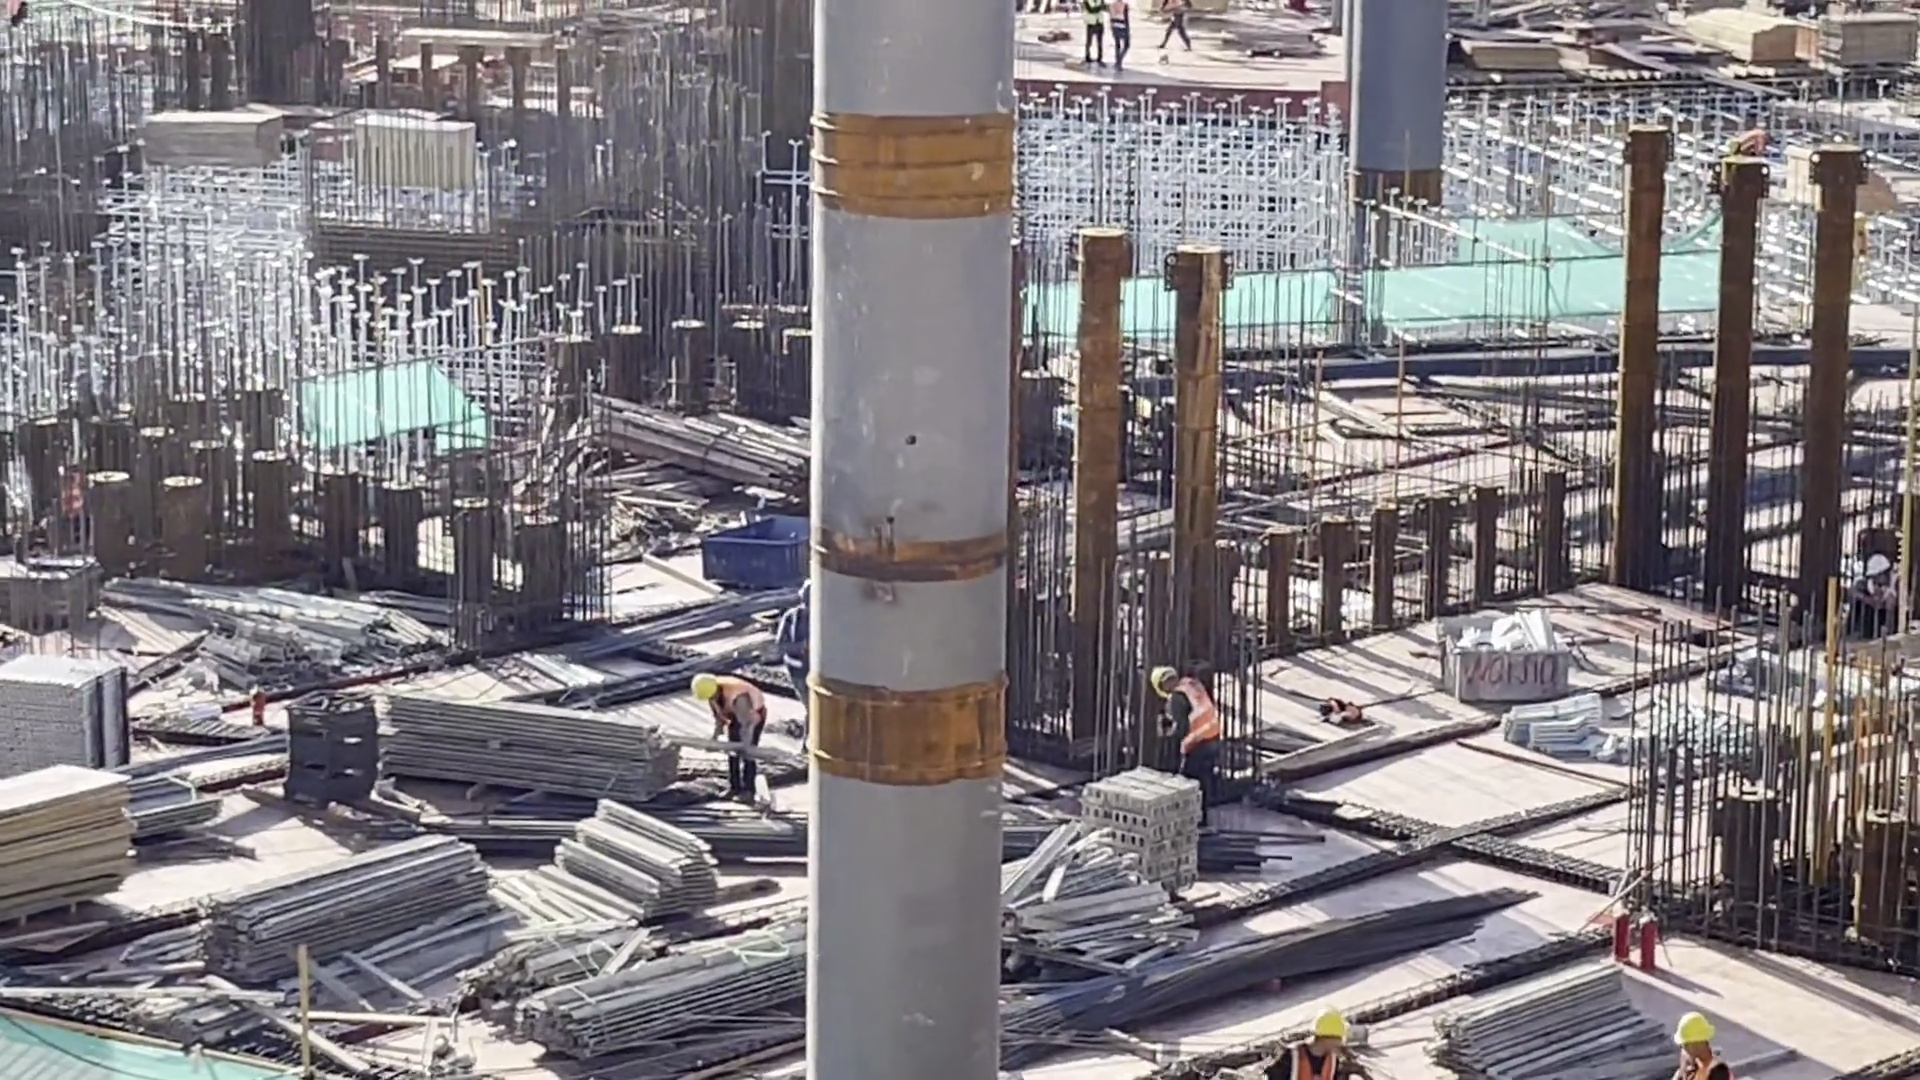board: (1, 774, 126, 937), (154, 118, 282, 174), (1464, 36, 1559, 89)
helmet: (1145, 660, 1180, 693), (799, 578, 835, 611), (1308, 1006, 1341, 1040), (691, 669, 716, 699), (1682, 1025, 1708, 1049), (1872, 544, 1890, 573), (1730, 133, 1738, 146)
hopper: (1424, 606, 1568, 709), (696, 501, 818, 596)
person: (709, 663, 774, 778), (788, 568, 831, 735), (1139, 666, 1201, 760), (1291, 1003, 1361, 1080), (1856, 556, 1918, 631), (1677, 998, 1722, 1080), (1731, 123, 1771, 156), (1111, 1, 1131, 61), (1085, 1, 1104, 61), (1158, 1, 1179, 40)
rebar: (999, 873, 1519, 1043), (401, 791, 784, 896), (574, 585, 768, 656)
scaffold: (1, 659, 133, 829)
vest: (773, 602, 816, 677), (1166, 678, 1217, 738), (1294, 1041, 1369, 1079), (731, 676, 769, 722), (1867, 574, 1908, 615), (1684, 1057, 1732, 1080), (1087, 8, 1106, 30), (1166, 1, 1186, 20), (1113, 4, 1125, 31)
wood: (624, 396, 798, 491), (1671, 17, 1899, 61), (373, 124, 488, 192)
